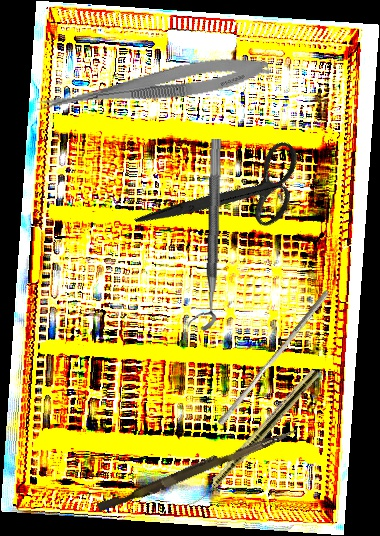Fixation Ring: (187, 138, 223, 331)
Handpiece: (186, 366, 321, 514)
Iris Scissors: (134, 99, 321, 292)
Micro Scissor: (34, 48, 271, 127)
Pusher: (96, 421, 298, 517), (216, 285, 331, 430)
